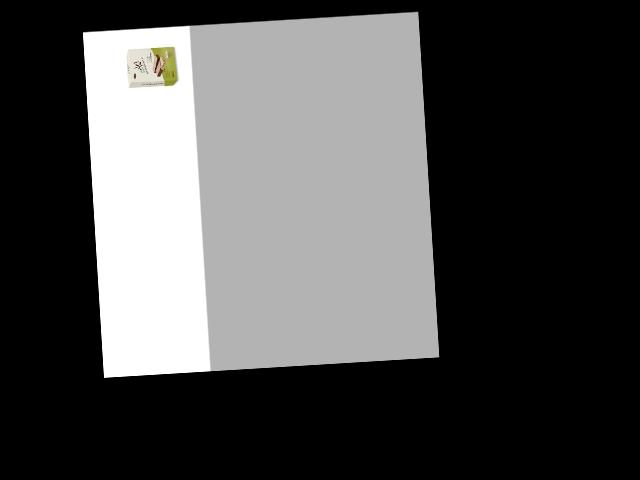chocolate: (125, 45, 179, 91)
